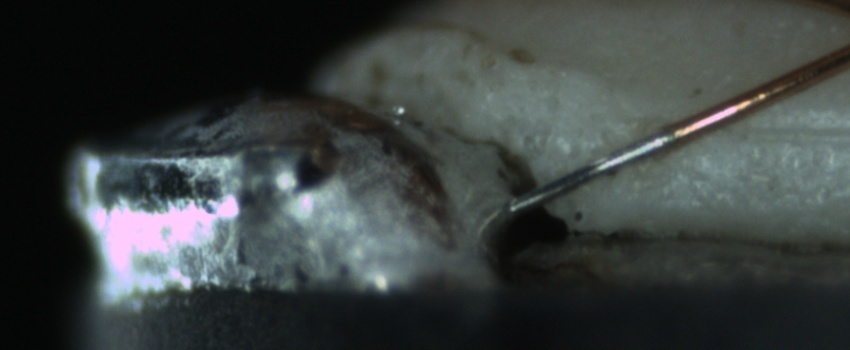DL: (730, 108, 849, 167)
TS: (511, 132, 674, 212)
